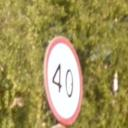speed_limit_40: (42, 34, 84, 126)
